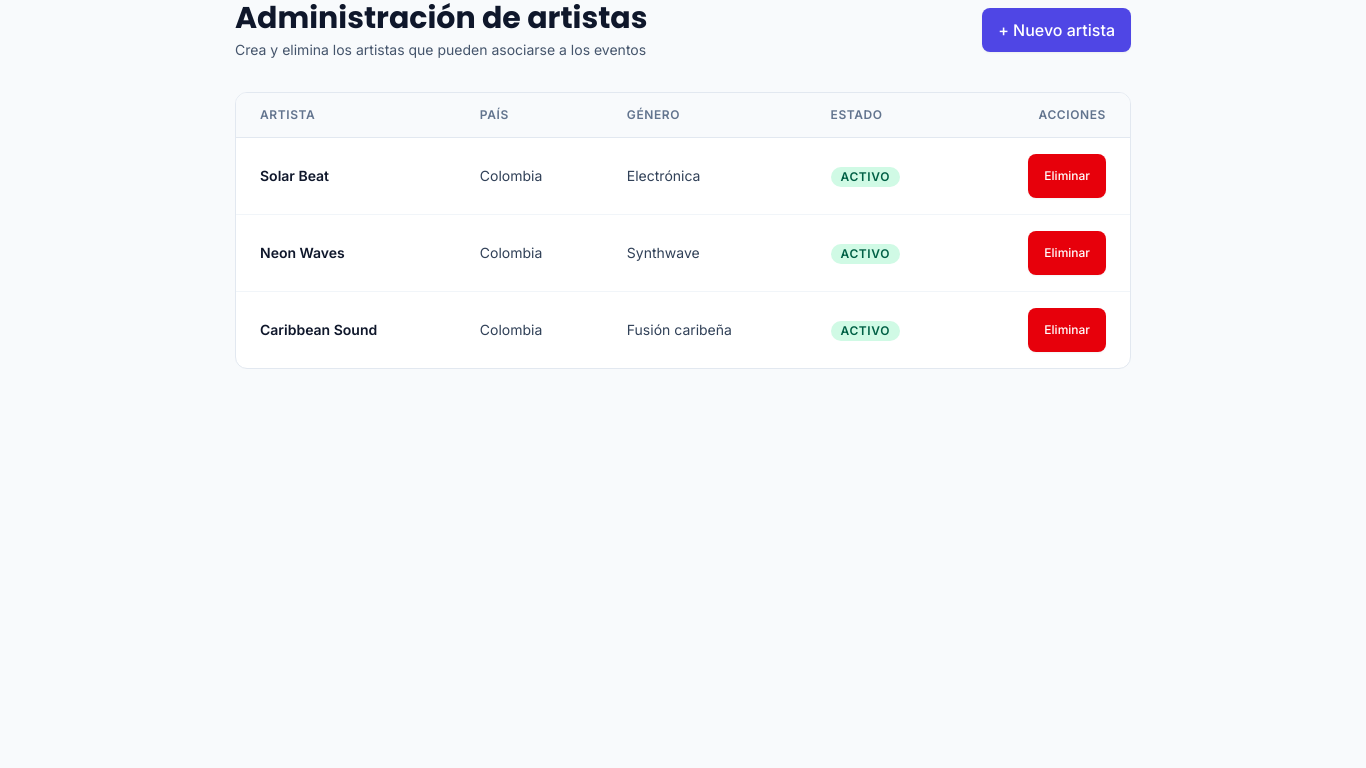
Scenario: ADMIN: administrar artistas › TEST-FE-ADM-ART-008: eliminar un artista asociado a eventos muestra el conflicto 409
Click the button with aria-label "Eliminar Solar Beat" at (1067, 176), box [1028,154,1106,198]
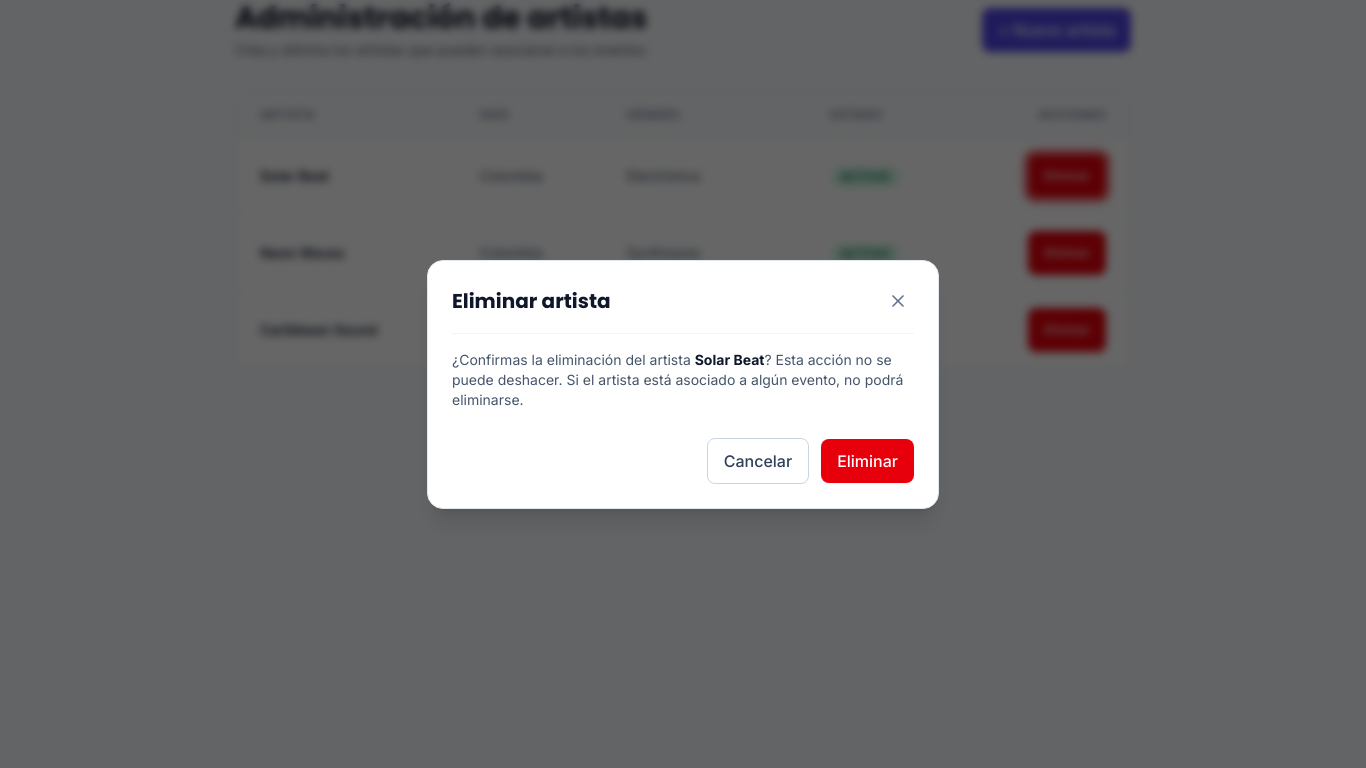
Click the button "Eliminar" at (868, 460), box [821,438,914,482]
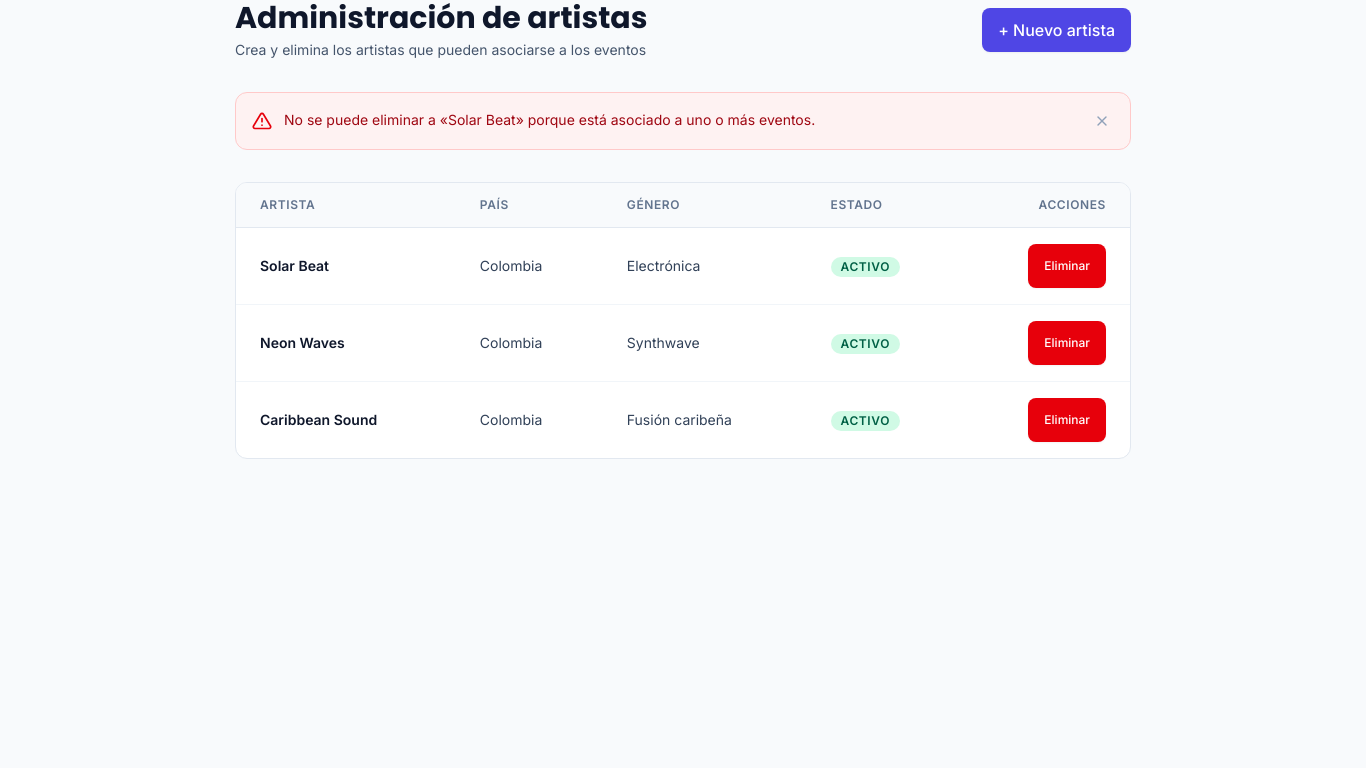
Expected: the link "Solar Beat" is shown, [260,257,329,274]
Expected: the text "No se puede eliminar a «Solar Beat» porque está asociado a uno o más eventos" is shown, [284,111,815,128]
Expected: the dialog is gone
